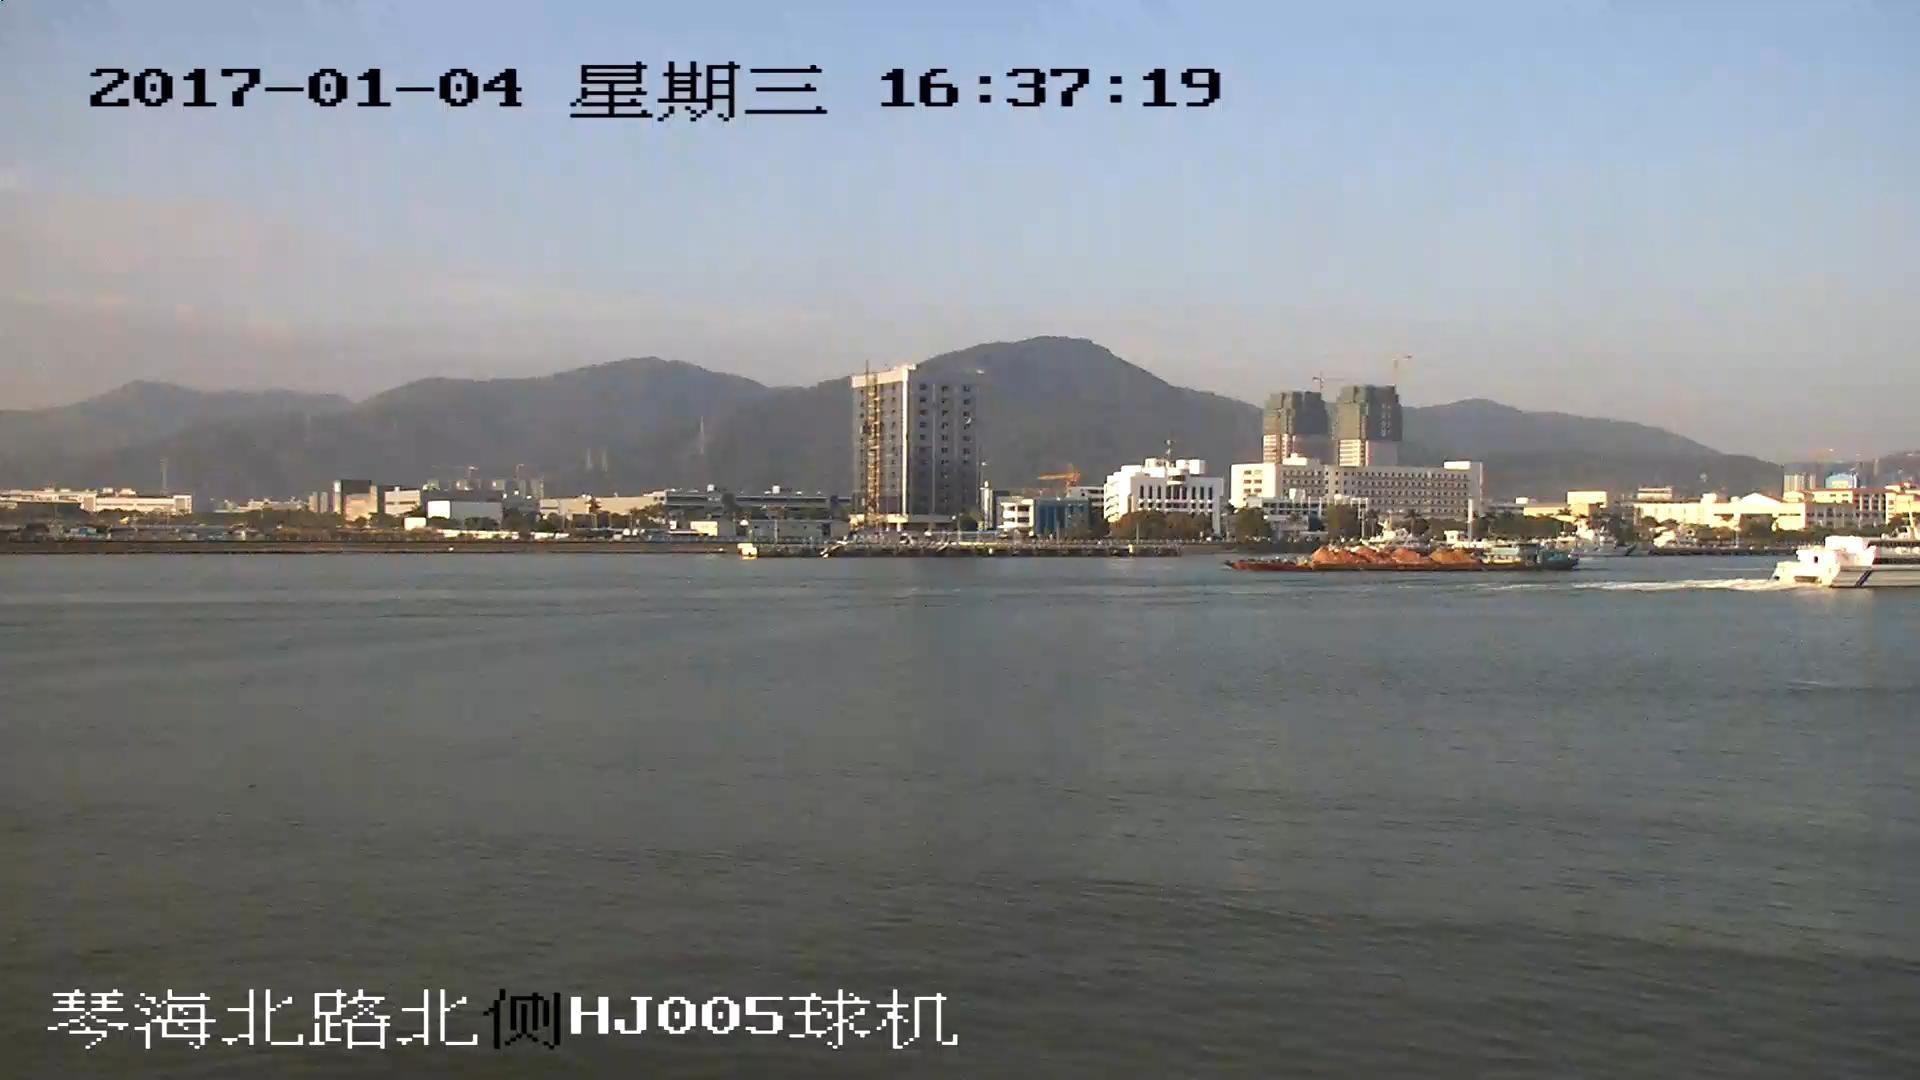Ship: (1233, 539, 1577, 578), (1774, 537, 1920, 589)
